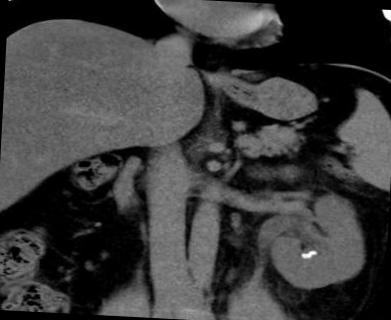Tas_Var: (310, 250, 317, 256), (305, 252, 311, 258), (300, 255, 306, 259), (300, 252, 305, 256)
